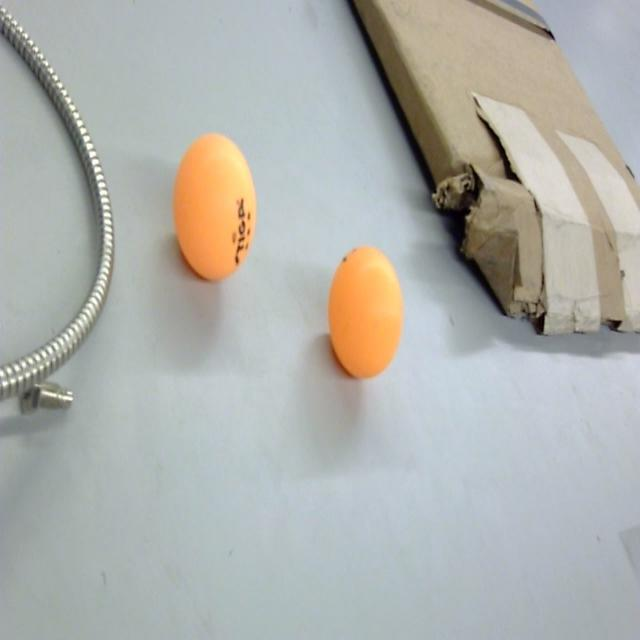ball: (172, 132, 258, 284), (326, 243, 405, 383)
